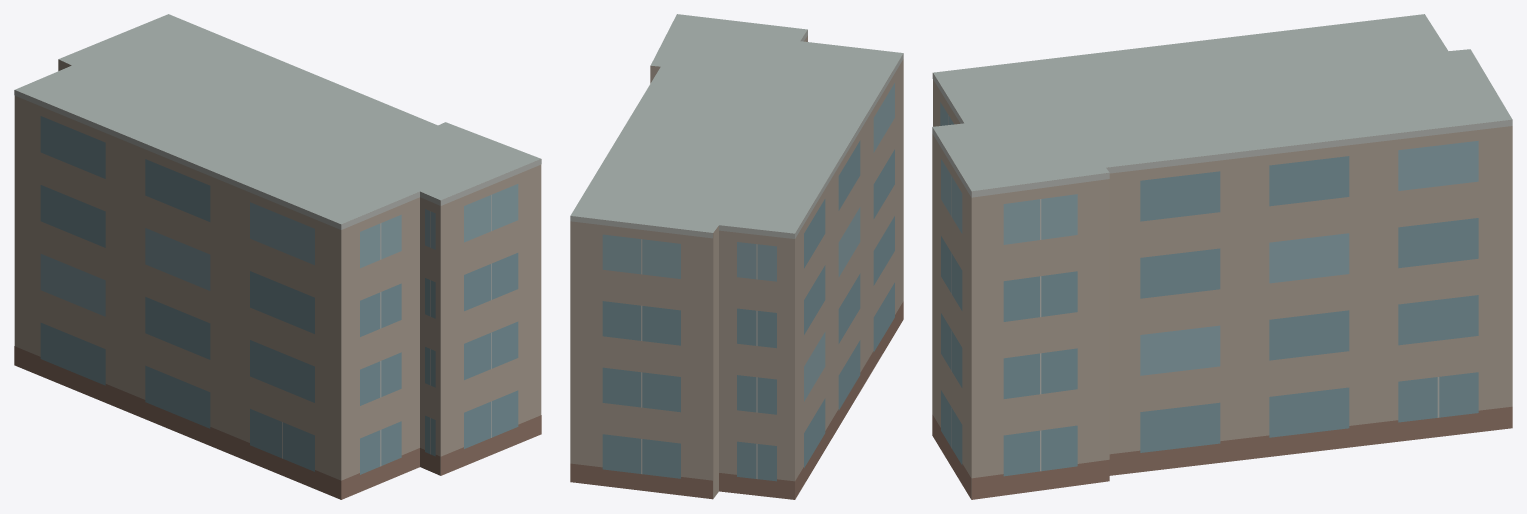
The model's file is survey-upis-32995089.glb.
The picture shows the model from 3 angles, left to right: view 1: azimuth 30°, elevation 25°; view 2: azimuth 150°, elevation 25°; view 3: azimuth 270°, elevation 25°; orthographic projection. The views are drawn at different scales.
Parts seen in each view (by area): view 1: survey-upis-32995089.tmp; view 2: survey-upis-32995089.tmp; view 3: survey-upis-32995089.tmp.
Boxes of the visible parts, box(x1,y1,x2,y2) form: survey-upis-32995089.tmp: box(14, 14, 541, 499); survey-upis-32995089.tmp: box(570, 14, 903, 499); survey-upis-32995089.tmp: box(932, 14, 1512, 499).
Size of the model in its own units: 14.7 by 11.92 by 20.33.
